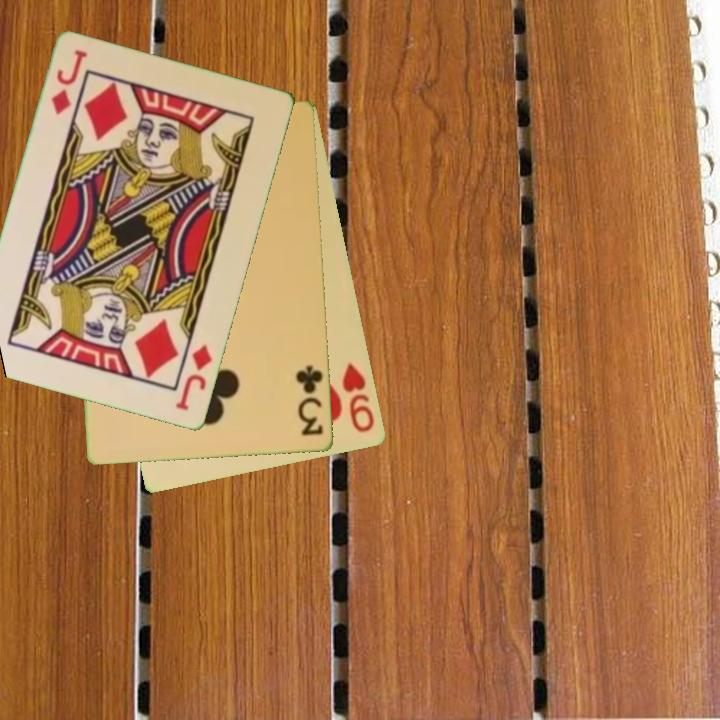3c: (293, 362, 326, 439)
9h: (339, 358, 378, 436)
Jd: (172, 342, 215, 414), (48, 46, 90, 118)
